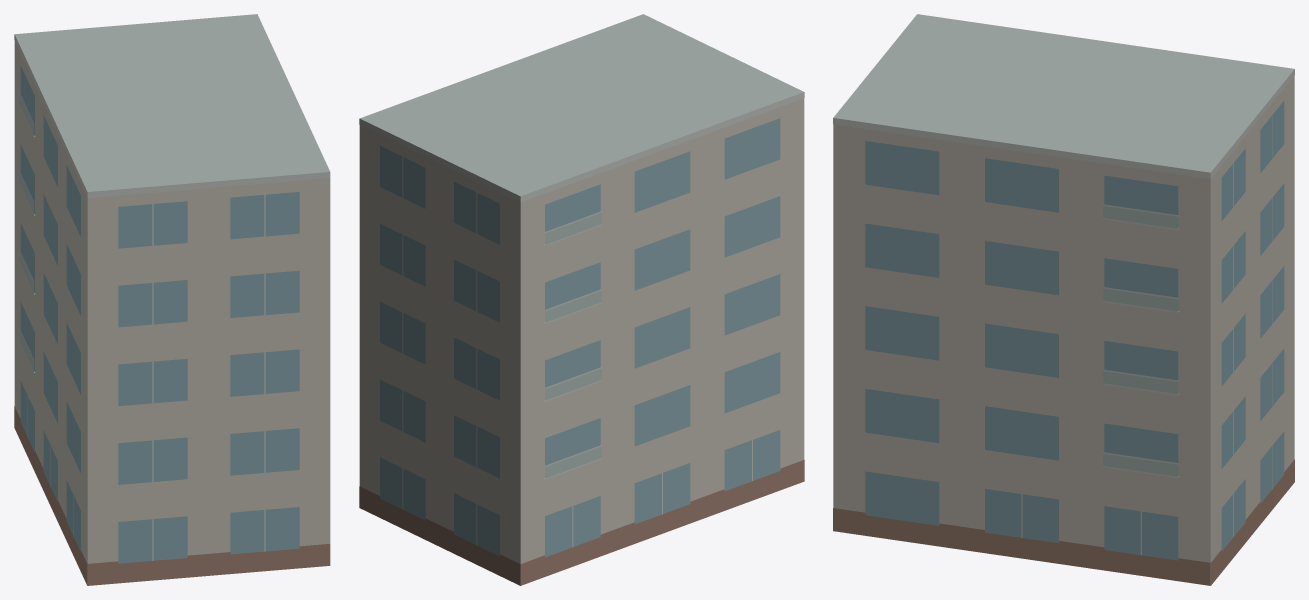
File: survey-upis-32869089.glb
The picture shows the model from 3 angles, left to right: view 1: azimuth 30°, elevation 25°; view 2: azimuth 150°, elevation 25°; view 3: azimuth 270°, elevation 25°; orthographic projection. The views are drawn at different scales.
Parts seen in each view (by area): view 1: survey-upis-32869089.tmp; view 2: survey-upis-32869089.tmp; view 3: survey-upis-32869089.tmp.
Boxes of the visible parts, bbox=[...] form: survey-upis-32869089.tmp: bbox=[14, 14, 330, 585]; survey-upis-32869089.tmp: bbox=[359, 14, 804, 585]; survey-upis-32869089.tmp: bbox=[833, 14, 1294, 585].
Size of the model in its own units: 12.86 by 15.6 by 15.81.
